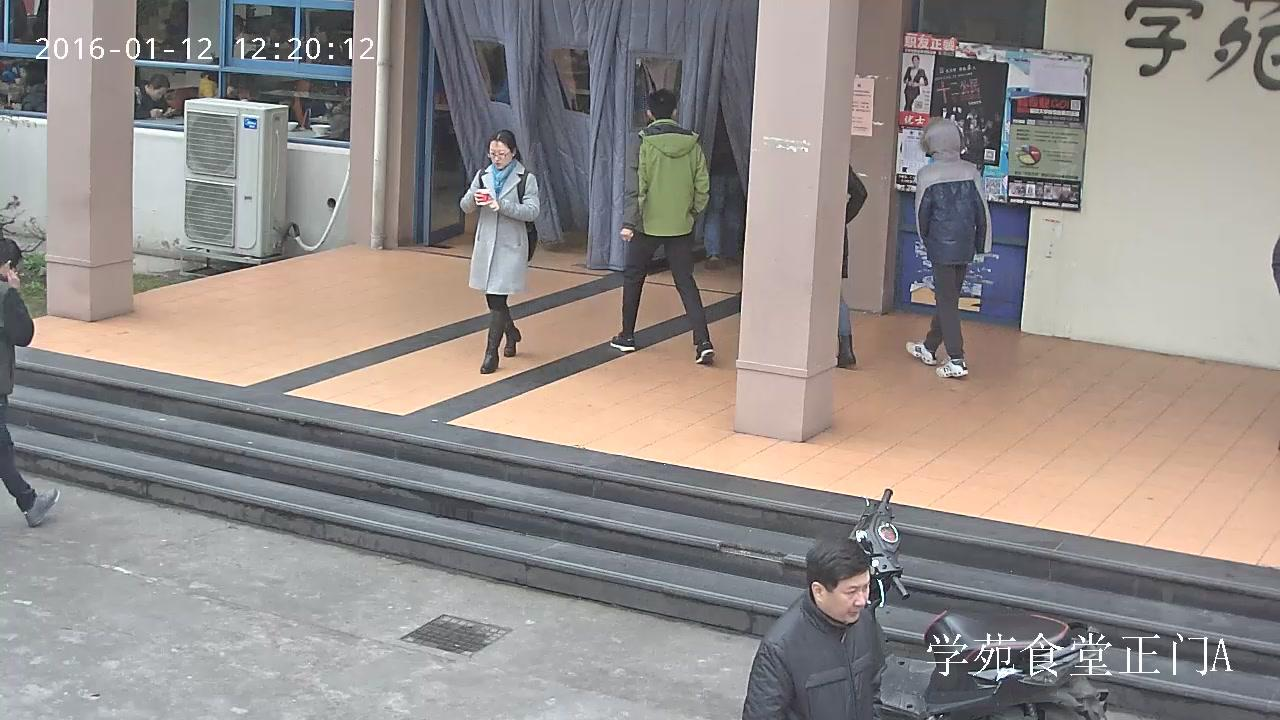person: (608, 88, 715, 364), (742, 537, 885, 720), (903, 118, 992, 378), (458, 128, 542, 373), (0, 239, 60, 527), (836, 159, 865, 370), (703, 111, 741, 270), (135, 73, 174, 121), (903, 56, 928, 112)
